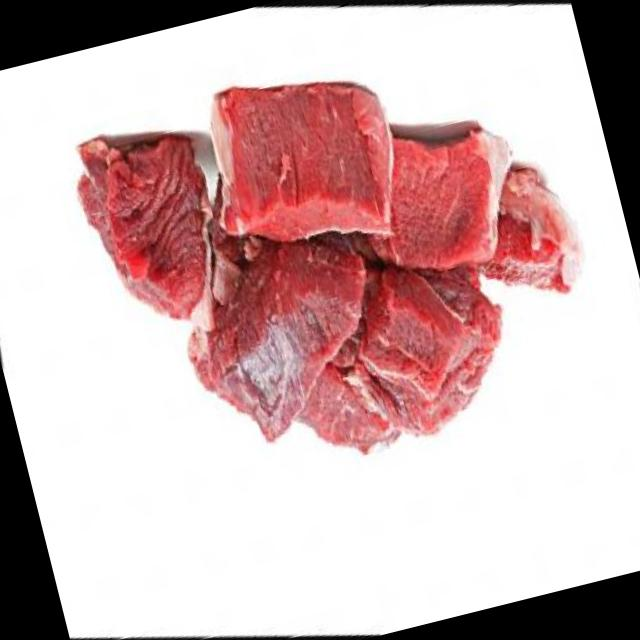beef: (19, 0, 640, 569)
